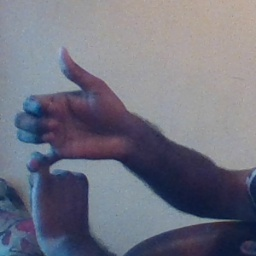S: (11, 42, 130, 212)
